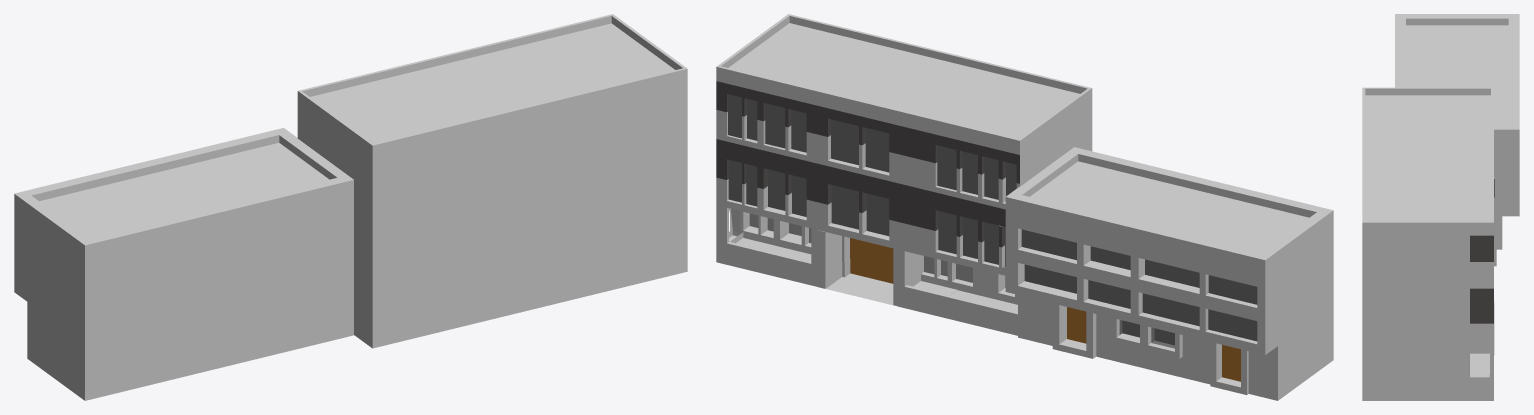
The model's file is building14.glb.
3 renders of one model, left to right at view 1: azimuth 30°, elevation 25°; view 2: azimuth 150°, elevation 25°; view 3: azimuth 270°, elevation 25°, orthographic. The views are drawn at different scales.
Parts seen in each view (by area): view 1: Cube; view 2: Cube; view 3: Cube.
Part boxes in pixels (x1=…): Cube: x1=14, y1=14, x2=687, y2=400; Cube: x1=716, y1=14, x2=1333, y2=400; Cube: x1=1362, y1=14, x2=1519, y2=400.
Size of the model in its own units: 191 by 63.62 by 50.67.
